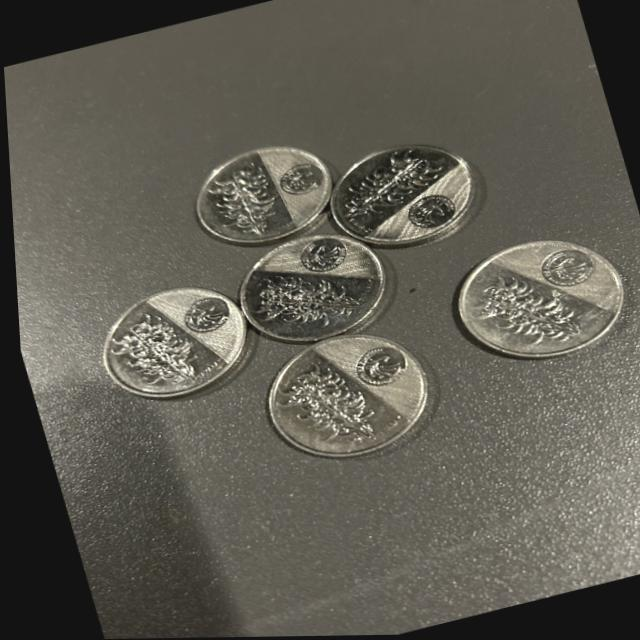5_New_Back: (461, 258, 583, 365), (258, 354, 376, 463), (87, 301, 206, 403), (319, 140, 451, 228), (243, 258, 365, 343), (192, 147, 289, 247)
